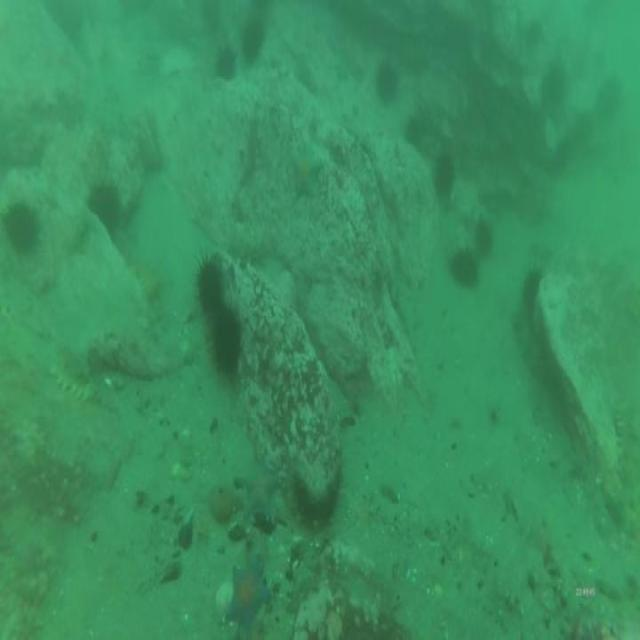echinus: (205, 305, 243, 384), (1, 196, 45, 264), (84, 178, 122, 244), (193, 247, 225, 319), (402, 102, 437, 160), (446, 242, 481, 294), (236, 13, 268, 68), (372, 54, 402, 110), (539, 56, 568, 112), (431, 147, 459, 202), (596, 74, 625, 124), (519, 265, 545, 313), (213, 40, 241, 84), (471, 217, 493, 259), (198, 0, 222, 33)
holothurian: (611, 388, 640, 526), (47, 344, 102, 411)
starfish: (226, 555, 273, 635), (237, 455, 280, 533), (288, 137, 329, 207)
